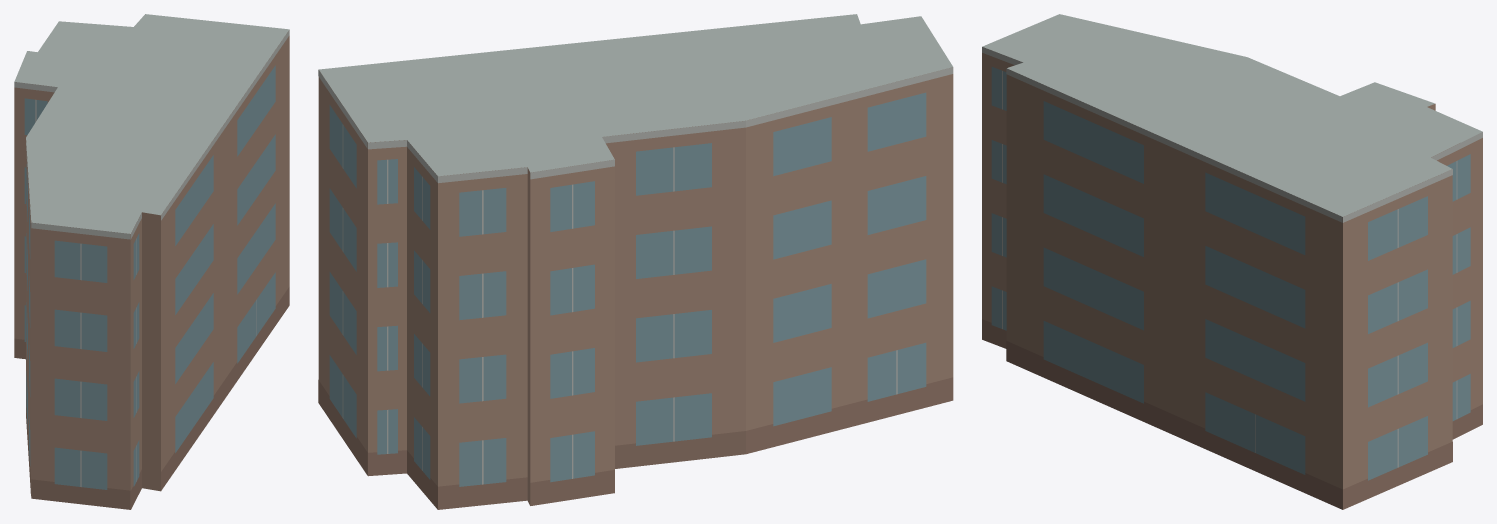
File: survey-upis-32885340.glb
3 renders of one model, left to right at view 1: azimuth 30°, elevation 25°; view 2: azimuth 150°, elevation 25°; view 3: azimuth 270°, elevation 25°, orthographic. The views are drawn at different scales.
Visible parts, largest first — view 1: survey-upis-32885340.tmp; view 2: survey-upis-32885340.tmp; view 3: survey-upis-32885340.tmp.
Part boxes in pixels (box(x1,y1,x2,y2)): survey-upis-32885340.tmp: box(14, 14, 289, 509); survey-upis-32885340.tmp: box(318, 14, 953, 509); survey-upis-32885340.tmp: box(982, 14, 1482, 509).
Size of the model in its own units: 17.69 by 11.9 by 18.44.
